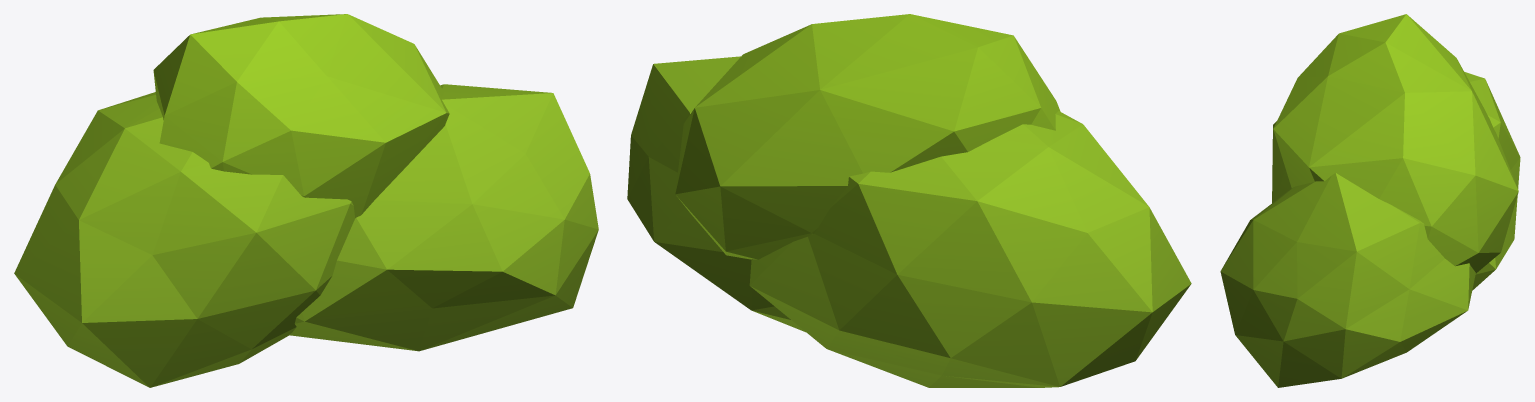
The model's file is Bush_2.fbx.
The picture shows the model from 3 angles, left to right: view 1: azimuth 30°, elevation 25°; view 2: azimuth 150°, elevation 25°; view 3: azimuth 270°, elevation 25°; orthographic projection. The views are drawn at different scales.
Parts seen in each view (by area): view 1: Bush_2; view 2: Bush_2; view 3: Bush_2.
Boxes of the visible parts, x1,y1,x2,y2 form: Bush_2: (14, 14, 598, 387); Bush_2: (627, 14, 1191, 387); Bush_2: (1220, 14, 1520, 387).
Size of the model in its own units: 375 by 221 by 217.
